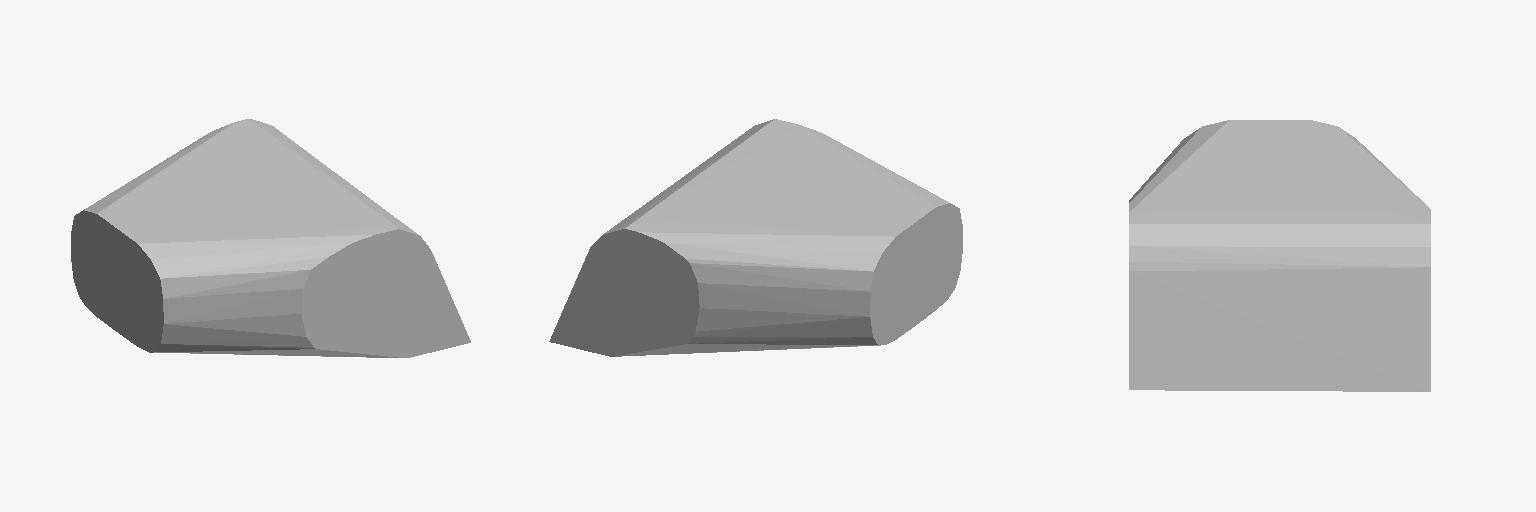
The model's file is skillet_collision_10.obj.
The picture shows the model from 3 angles: view 1: azimuth 30°, elevation 25°; view 2: azimuth 150°, elevation 25°; view 3: azimuth 270°, elevation 25°; orthographic projection.
Bounding box in the file's own units: 0.0394 × 0.0173 × 0.0357.